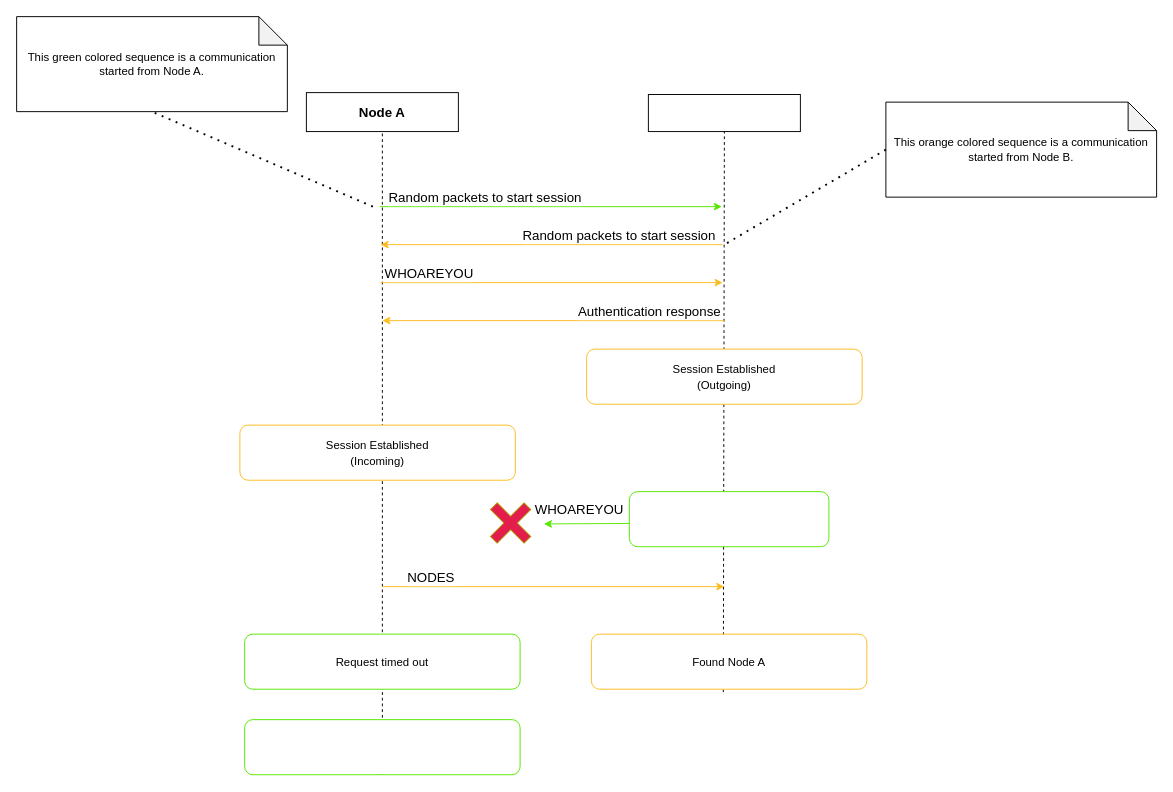
This 1173x792 diagram has some shape labels left out. The shapes that lost their labels are listed below. From the top down, each one's centre as x and y in pixels, then its label:
At point 723,113: "Node B".
At point 728,519: "Session already established WHOAREYOU not sent".
At point 382,747: "Set Node B disconnected".
